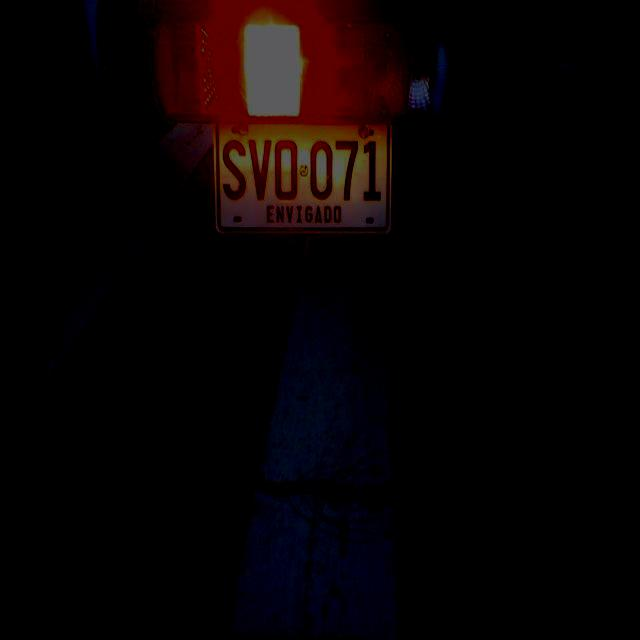placa: (210, 114, 394, 240)
